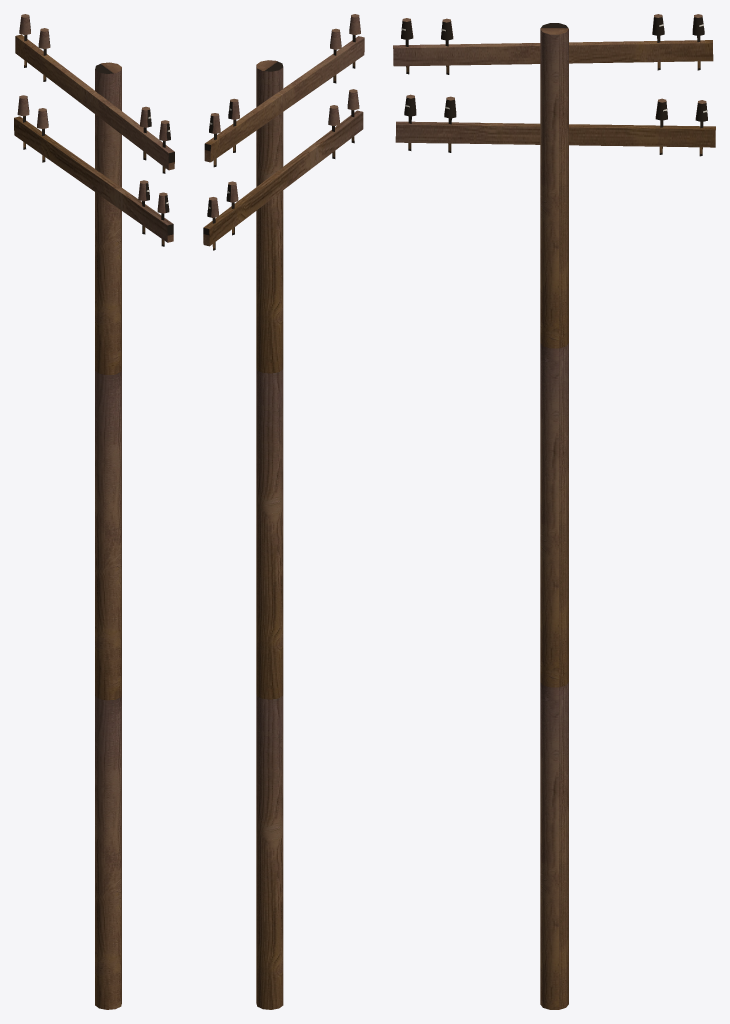
Rendered from pole_wood.FBX.
The picture shows the model from 3 angles, left to right: view 1: azimuth 30°, elevation 25°; view 2: azimuth 150°, elevation 25°; view 3: azimuth 270°, elevation 25°; orthographic projection. The views are drawn at different scales.
Parts seen in each view (by area): view 1: pole_wood; view 2: pole_wood; view 3: pole_wood.
Boxes of the visible parts, x1,y1,x2,y2 form: pole_wood: (14,14,174,1009); pole_wood: (203,14,364,1009); pole_wood: (393,14,715,1009).
Size of what is drawn, in the model's own units: 25.19 by 721 by 215.
